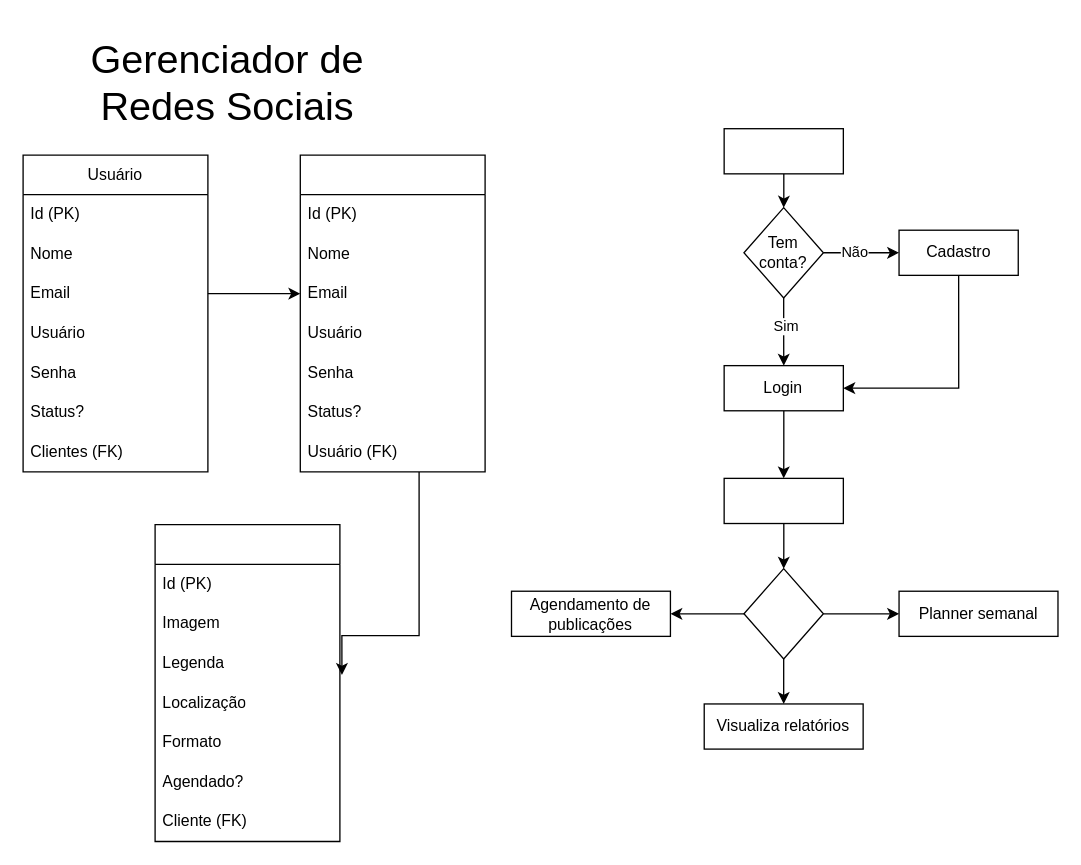
The diagram is 1081 pixels wide and 865 high, and some of its shapes have lost their labels. The box of each missing label's shape, as (x1, y1, x2, y2) in pixels:
Cliente: (299, 154, 485, 472)
Postagem: (154, 523, 340, 842)
Página inicial: (723, 477, 843, 524)
Usuário acessa o sistema: (723, 127, 843, 174)
